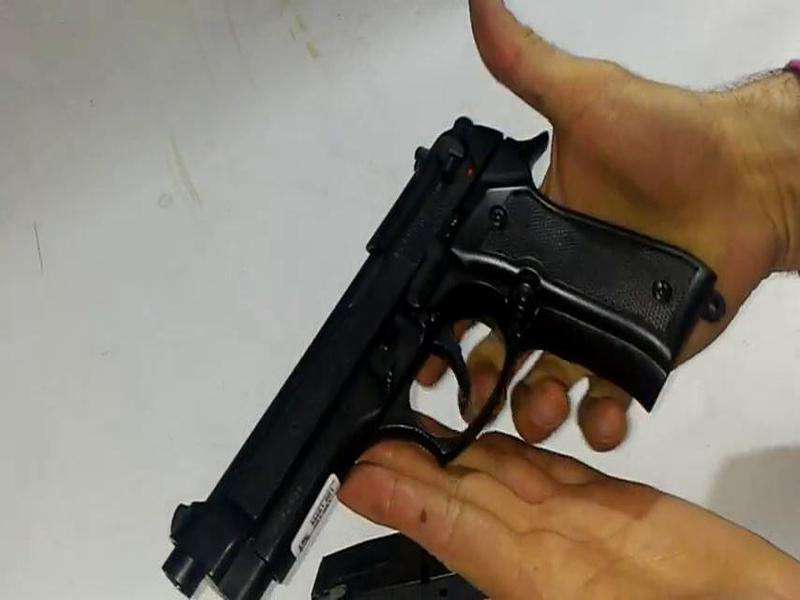Pistola: (97, 57, 715, 584)
